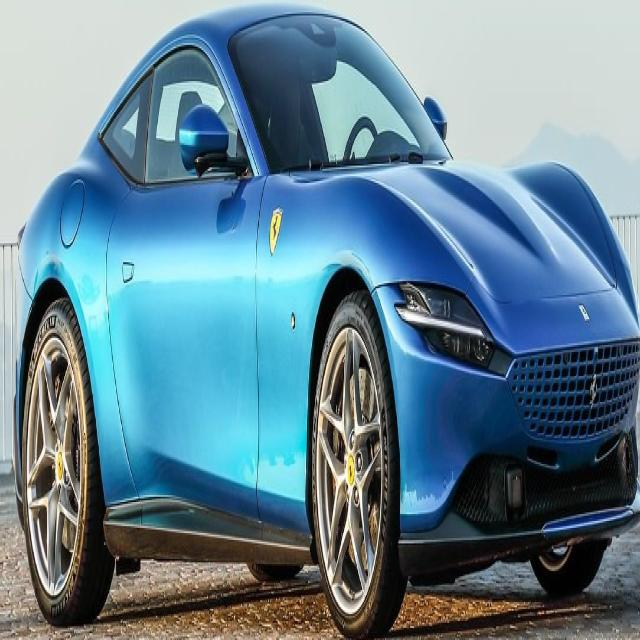blue: (17, 0, 640, 599)
